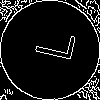L: (25, 25, 76, 63)
